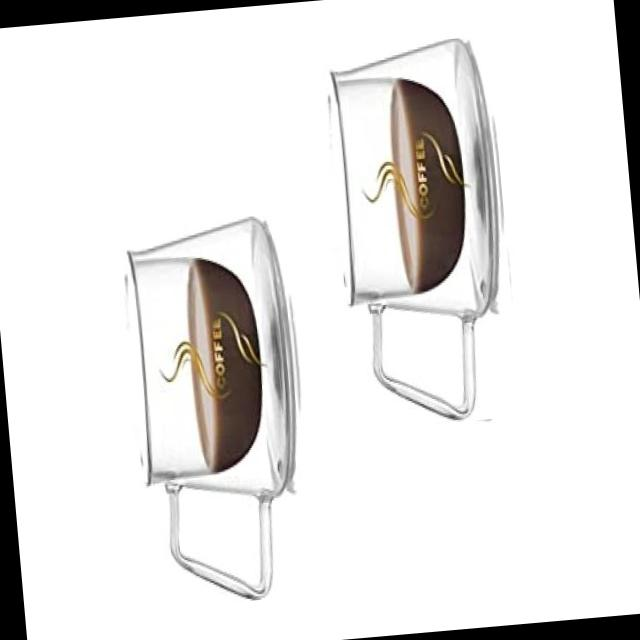Coffee Mug: (316, 34, 521, 430), (116, 210, 320, 606)
